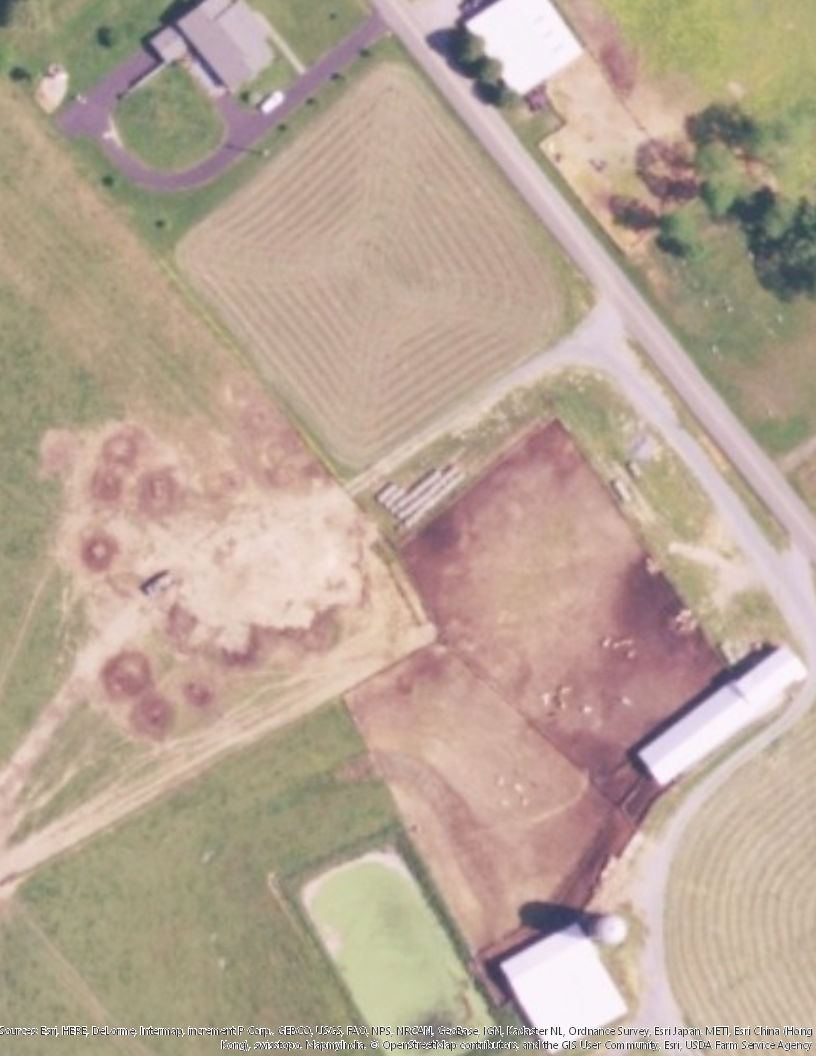cafo: (628, 640, 812, 795), (484, 899, 663, 1045), (458, 1, 594, 105)
